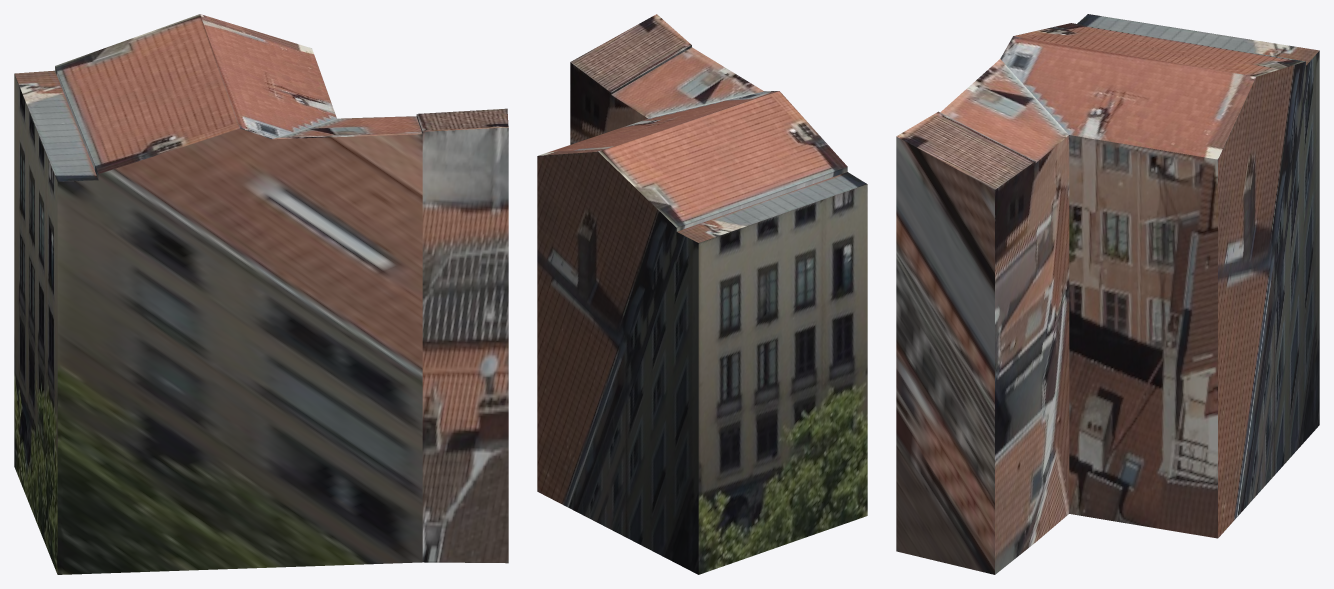
3 views of the same model, side by side, from view 1: azimuth 30°, elevation 25°; view 2: azimuth 150°, elevation 25°; view 3: azimuth 270°, elevation 25° (orthographic). The views are drawn at different scales.
Visible parts, largest first — view 1: Z_UP; view 2: Z_UP; view 3: Z_UP.
Part boxes in pixels (box(x1,y1,x2,y2)): Z_UP: box(14, 14, 508, 574); Z_UP: box(537, 14, 867, 574); Z_UP: box(896, 14, 1319, 574).
Bounding box in the file's own units: 20.73 × 21.73 × 19.9.
Materials: 2 (1 with a texture image).
